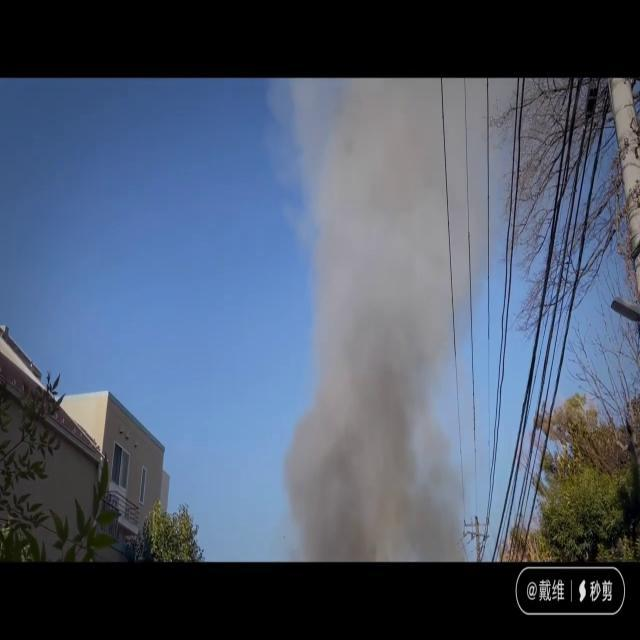Smoke: (266, 79, 486, 561)
